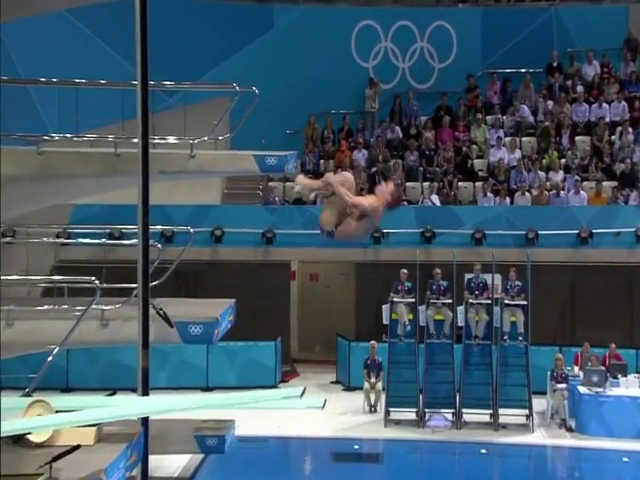diver: (294, 171, 401, 241)
